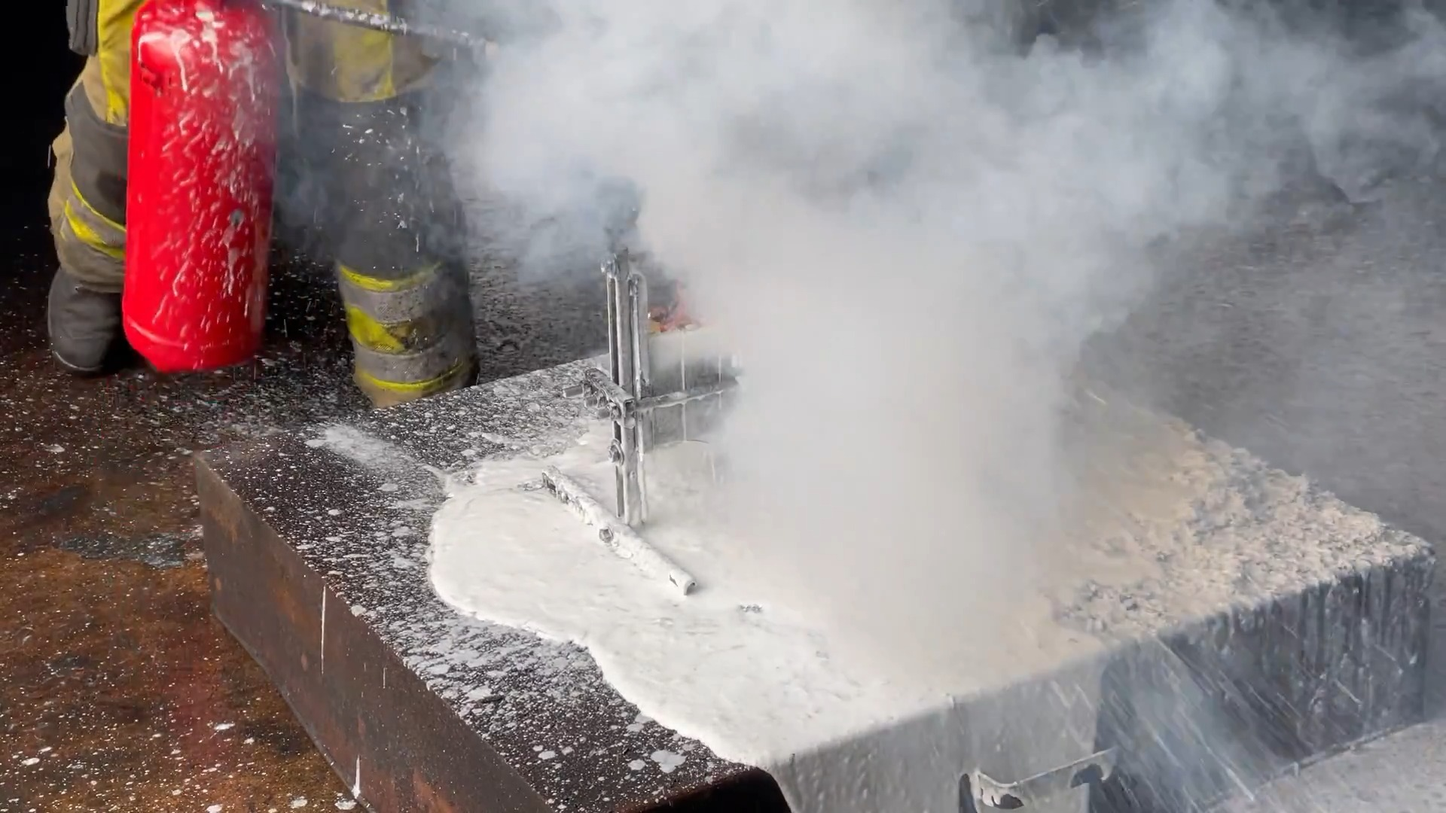fire: (644, 282, 703, 334)
